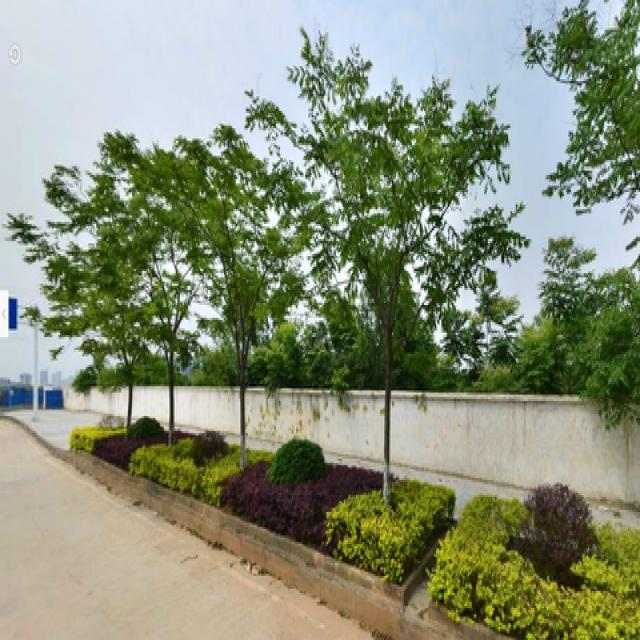koel: (317, 58, 456, 480), (198, 143, 278, 435), (116, 162, 189, 437)
